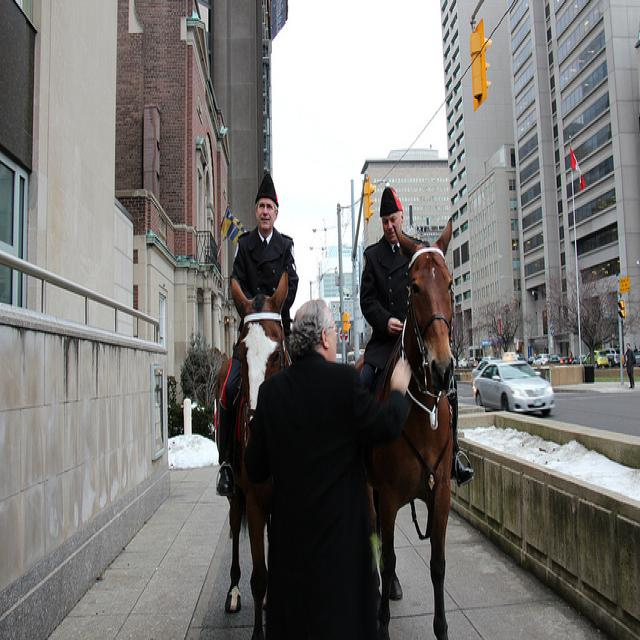Vehicle: (475, 362, 555, 414), (583, 349, 609, 368), (470, 359, 494, 379), (544, 352, 573, 365), (603, 347, 620, 368), (532, 353, 551, 366), (501, 352, 516, 360), (579, 354, 586, 363), (572, 359, 580, 364)
